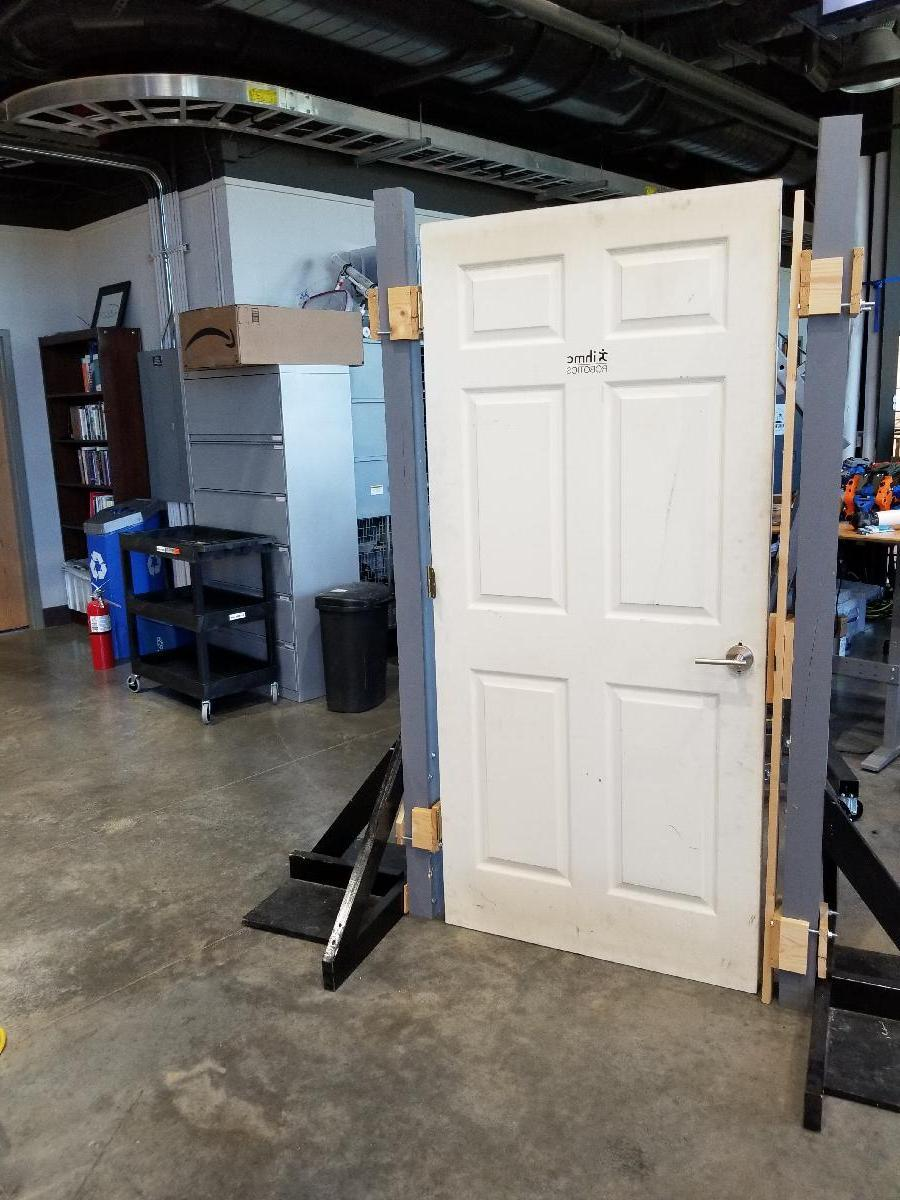door: (434, 170, 784, 966)
handle: (692, 638, 756, 679)
